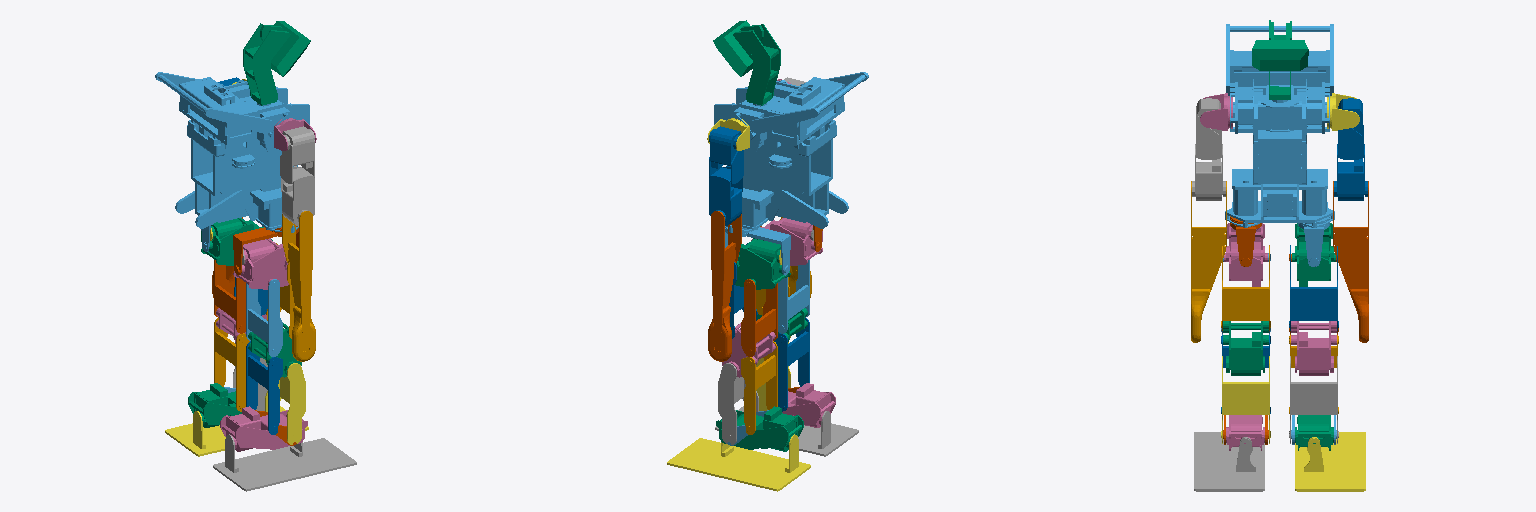
--- Facts derived from the render (not from the file) ---
Views: 3 orthographic renders of the robot side by side, from view 1: azimuth 30°, elevation 25°; view 2: azimuth 150°, elevation 25°; view 3: azimuth 270°, elevation 25°.
Robot: gankenkun — 35 links, 34 joints (29 revolute, 5 fixed); root link base_link; default pose: every joint at zero.
Visible links, largest first — view 1: body_link, right_ankle_roll_link, head_yaw_link, right_lower_arm_link, right_upper_arm_link, right_ankle_pitch_link, right_waist_roll_link, right_shin_pitch_mimic_link, right_waist_pitch_mimic_link, left_shin_pitch_mimic_link, right_shin_pitch_link, left_ankle_roll_link (+6 smaller); view 2: body_link, left_ankle_roll_link, head_yaw_link, left_lower_arm_link, left_upper_arm_link, left_ankle_pitch_link, left_waist_roll_link, left_shin_pitch_mimic_link, left_waist_pitch_mimic_link, right_shin_pitch_mimic_link, left_shin_pitch_link, right_ankle_roll_link (+6 smaller); view 3: body_link, right_ankle_roll_link, left_ankle_roll_link, left_lower_arm_link, right_lower_arm_link, right_upper_arm_link, left_upper_arm_link, head_yaw_link, left_knee_pitch_link, right_knee_pitch_link, left_waist_pitch_link, right_waist_pitch_link (+10 smaller).
Boxes of the visible links, x1,y1,x2,y2 form: body_link: [155, 72, 309, 232]; right_ankle_roll_link: [213, 434, 356, 491]; head_yaw_link: [243, 21, 310, 105]; right_lower_arm_link: [282, 211, 315, 361]; right_upper_arm_link: [280, 126, 314, 225]; right_ankle_pitch_link: [220, 406, 307, 451]; right_waist_roll_link: [233, 238, 288, 289]; right_shin_pitch_mimic_link: [246, 341, 282, 434]; right_waist_pitch_mimic_link: [246, 279, 282, 356]; left_shin_pitch_mimic_link: [214, 318, 249, 411]; right_shin_pitch_link: [265, 360, 305, 444]; left_ankle_roll_link: [165, 406, 308, 456]; body_link: [714, 72, 868, 232]; left_ankle_roll_link: [667, 434, 810, 491]; head_yaw_link: [713, 20, 780, 105]; left_lower_arm_link: [708, 211, 741, 361]; left_upper_arm_link: [709, 126, 743, 225]; left_ankle_pitch_link: [716, 406, 803, 451]; left_waist_roll_link: [735, 238, 790, 289]; left_shin_pitch_mimic_link: [741, 341, 777, 434]; left_waist_pitch_mimic_link: [741, 279, 777, 356]; right_shin_pitch_mimic_link: [774, 318, 809, 411]; left_shin_pitch_link: [718, 360, 758, 444]; right_ankle_roll_link: [715, 406, 858, 456]; body_link: [1225, 24, 1334, 227]; right_ankle_roll_link: [1194, 432, 1264, 491]; left_ankle_roll_link: [1295, 432, 1365, 491]; left_lower_arm_link: [1333, 181, 1368, 342]; right_lower_arm_link: [1191, 181, 1226, 342]; right_upper_arm_link: [1192, 98, 1225, 200]; left_upper_arm_link: [1334, 98, 1367, 200]; head_yaw_link: [1252, 20, 1308, 99]; left_knee_pitch_link: [1291, 321, 1336, 375]; right_knee_pitch_link: [1223, 321, 1268, 375]; left_waist_pitch_link: [1289, 245, 1338, 330]; right_waist_pitch_link: [1221, 245, 1270, 330].
Bounding box of the posed robot: 0.215 × 0.2307 × 0.6326 m (x, y, z).
30 mesh visuals loaded from 20 distinct referenced files (20 binary STL).

The robot description file, URDF, robot "gankenkun":
<?xml version="1.0" ?>
<!-- =================================================================================== -->
<!-- |    This document was autogenerated by xacro from gankenkun_v3.xacro             | -->
<!-- |    EDITING THIS FILE BY HAND IS NOT RECOMMENDED                                 | -->
<!-- =================================================================================== -->
<robot name="gankenkun" xmlns:xacro="http://www.ros.org/wiki/xacro">
  <material name="black">
    <color rgba="0.0 0.0 0.0 1.0"/>
  </material>
  <material name="blue">
    <color rgba="0.0 0.0 0.8 1.0"/>
  </material>
  <material name="green">
    <color rgba="0.0 0.8 0.0 1.0"/>
  </material>
  <material name="grey">
    <color rgba="0.5 0.5 0.5 1.0"/>
  </material>
  <material name="orange">
    <color rgba="1.0 0.423529411765 0.0392156862745 1.0"/>
  </material>
  <material name="brown">
    <color rgba="1.0 0.811764705882 0.764705882353 1.0"/>
  </material>
  <material name="red">
    <color rgba="0.8 0.0 0.0 1.0"/>
  </material>
  <material name="white">
    <color rgba="1.0 1.0 1.0 1.0"/>
  </material>
  <!-- import empty link -->
  <link name="base_link"/>
  <!-- uncomment this part to fixed the body in space (ignore gravity) -->
  <!--
    <link name="world"/>
    <joint name="world2base" type="fixed">
        <origin xyz="0 0 0" rpy="0 0 0" />
        <parent link="world"/>
        <child link="base_link"/>
    </joint>
    -->
  <!-- base joints -->
  <joint name="base_joint" type="fixed">
    <parent link="base_link"/>
    <child link="body_link"/>
    <origin rpy="0 0 0" xyz="0 0 0.4285"/>
  </joint>
  <!-- base body -->
  <link name="body_link">
    <inertial>
      <mass value="1.289633"/>
      <origin xyz="-0.029448 0 0.031411"/>
      <inertia ixx="6.835657" ixy="0.00077" ixz="-0.0158" iyy="6.654993" iyz="-1.37921" izz="6.88664"/>
    </inertial>
    <visual>
      <origin rpy="-1.57079632679 0 1.57079632679" xyz="0 0 0"/>
      <geometry>
        <mesh filename="meshes/STL/body.stl"/>
      </geometry>
    </visual>
    <collision>
      <origin rpy="-1.57079632679 0 1.57079632679" xyz="0 0 0"/>
      <geometry>
        <mesh filename="meshes/STL/body.stl"/>
      </geometry>
    </collision>
  </link>
  <!-- head joints -->
  <joint name="head_yaw_joint" type="revolute">
    <parent link="body_link"/>
    <child link="head_yaw_link"/>
    <origin rpy="0 0 0" xyz="0 0 0.09475"/>
    <limit effort="1000" lower="-2.35619449019" upper="2.35619449019" velocity="1.0"/>
    <axis xyz="0 0 1"/>
  </joint>
  <!-- head link -->
  <link name="head_yaw_link">
    <inertial>
      <mass value="0.10351"/>
      <origin xyz="0.017325 0 0.065059"/>
      <inertia ixx="0.0647399" ixy="0.0" ixz="0.0" iyy="0.098874" iyz="0.0" izz="0.088696"/>
    </inertial>
    <visual>
      <origin rpy="-1.57079632679 1.57079632679 0" xyz="0 0 0"/>
      <geometry>
        <mesh filename="meshes/STL/head.stl"/>
      </geometry>
    </visual>
    <collision>
      <origin rpy="-1.57079632679 1.57079632679 0" xyz="0 0 0"/>
      <geometry>
        <mesh filename="meshes/STL/head.stl"/>
      </geometry>
    </collision>
  </link>
  <!-- arm joints -->
  <joint name="left_shoulder_pitch_joint" type="revolute">
    <parent link="body_link"/>
    <child link="left_shoulder_link"/>
    <origin rpy="-1.57079632679 0 0" xyz="0.0 0.06 0.072"/>
    <limit effort="1000" lower="-2.35619449019" upper="2.35619449019" velocity="1.0"/>
    <axis xyz="0 0 1"/>
  </joint>
  <joint name="left_shoulder_roll_joint" type="revolute">
    <parent link="left_shoulder_link"/>
    <child link="left_upper_arm_link"/>
    <origin rpy="0 1.57079632679 0" xyz="0 0 0.0315"/>
    <limit effort="1000" lower="0" upper="3.14159265359" velocity="1.0"/>
    <axis xyz="0 0 1"/>
  </joint>
  <joint name="left_elbow_pitch_joint" type="revolute">
    <parent link="left_upper_arm_link"/>
    <child link="left_lower_arm_link"/>
    <origin rpy="0 -1.57079632679 0" xyz="0 0.109 0"/>
    <limit effort="1000" lower="-2.35619449019" upper="2.35619449019" velocity="1.0"/>
    <axis xyz="0 0 1"/>
  </joint>
  <!-- arm link -->
  <link name="left_shoulder_link">
    <inertial>
      <mass value="0.09038"/>
      <origin xyz="0 0 0.0075"/>
      <inertia ixx="0.018183" ixy="0.0" ixz="0.0" iyy="0.027159" iyz="0.0" izz="0.014844"/>
    </inertial>
    <visual>
      <origin rpy="0 0 1.57079632679" xyz="0 0 0"/>
      <geometry>
        <mesh filename="meshes/STL/shoulder.stl"/>
      </geometry>
    </visual>
    <collision>
      <!-- fix shoulder collision.stl -->
      <origin rpy="0 0 1.57079632679" xyz="0 0 0"/>
      <geometry>
        <mesh filename="meshes/STL/shoulder.stl"/>
      </geometry>
    </collision>
  </link>
  <link name="left_upper_arm_link">
    <inertial>
      <mass value="0.185658"/>
      <origin xyz="0 0.0545 0"/>
      <inertia ixx="0.380361" ixy="0.0" ixz="0.0" iyy="0.380345" iyz="-0.001759" izz="0.037424"/>
    </inertial>
    <visual>
      <origin rpy="0 1.57079632679 0" xyz="0 0 0"/>
      <geometry>
        <mesh filename="meshes/STL/arm.stl"/>
      </geometry>
    </visual>
    <collision>
      <origin rpy="0 1.57079632679 0" xyz="0 0 0"/>
      <geometry>
        <mesh filename="meshes/STL/arm.stl"/>
      </geometry>
    </collision>
  </link>
  <link name="left_lower_arm_link">
    <inertial>
      <mass value="0.059757"/>
      <origin xyz="0 0.132001 0"/>
      <inertia ixx="0.014579" ixy="-0.022117" ixz="0.0" iyy="0.228745" iyz="-0.001759" izz="0.237824"/>
    </inertial>
    <visual>
      <origin rpy="0 0 1.57079632679" xyz="0 0 0"/>
      <geometry>
        <mesh filename="meshes/STL/hand.stl"/>
      </geometry>
    </visual>
    <collision>
      <origin rpy="0 0 1.57079632679" xyz="0 0 0"/>
      <geometry>
        <mesh filename="meshes/STL/hand.stl"/>
      </geometry>
    </collision>
  </link>
  <!-- arm joints -->
  <joint name="right_shoulder_pitch_joint" type="revolute">
    <parent link="body_link"/>
    <child link="right_shoulder_link"/>
    <origin rpy="-1.57079632679 0 0" xyz="0.0 -0.06 0.072"/>
    <limit effort="1000" lower="-2.35619449019" upper="2.35619449019" velocity="1.0"/>
    <axis xyz="0 0 1"/>
  </joint>
  <joint name="right_shoulder_roll_joint" type="revolute">
    <parent link="right_shoulder_link"/>
    <child link="right_upper_arm_link"/>
    <origin rpy="0 1.57079632679 0" xyz="0 0 -0.0315"/>
    <limit effort="1000" lower="-3.14159265359" upper="0" velocity="1.0"/>
    <axis xyz="0 0 1"/>
  </joint>
  <joint name="right_elbow_pitch_joint" type="revolute">
    <parent link="right_upper_arm_link"/>
    <child link="right_lower_arm_link"/>
    <origin rpy="0 -1.57079632679 0" xyz="0 0.109 0"/>
    <limit effort="1000" lower="-2.35619449019" upper="2.35619449019" velocity="1.0"/>
    <axis xyz="0 0 1"/>
  </joint>
  <!-- arm link -->
  <link name="right_shoulder_link">
    <inertial>
      <mass value="0.09038"/>
      <origin xyz="0 0 -0.0075"/>
      <inertia ixx="0.018183" ixy="0.0" ixz="0.0" iyy="0.027159" iyz="0.0" izz="0.014844"/>
    </inertial>
    <visual>
      <origin rpy="0 3.14159265359 1.57079632679" xyz="0 0 0"/>
      <geometry>
        <mesh filename="meshes/STL/shoulder.stl"/>
      </geometry>
    </visual>
    <collision>
      <!-- fix shoulder collision.stl -->
      <origin rpy="0 3.14159265359 1.57079632679" xyz="0 0 0"/>
      <geometry>
        <mesh filename="meshes/STL/shoulder.stl"/>
      </geometry>
    </collision>
  </link>
  <link name="right_upper_arm_link">
    <inertial>
      <mass value="0.185658"/>
      <origin xyz="0 0.0545 0"/>
      <inertia ixx="0.380361" ixy="0.0" ixz="0.0" iyy="0.380345" iyz="-0.001759" izz="0.037424"/>
    </inertial>
    <visual>
      <origin rpy="0 1.57079632679 0" xyz="0 0 0"/>
      <geometry>
        <mesh filename="meshes/STL/arm.stl"/>
      </geometry>
    </visual>
    <collision>
      <origin rpy="0 1.57079632679 0" xyz="0 0 0"/>
      <geometry>
        <mesh filename="meshes/STL/arm.stl"/>
      </geometry>
    </collision>
  </link>
  <link name="right_lower_arm_link">
    <inertial>
      <mass value="0.059757"/>
      <origin xyz="0 0.132001 0"/>
      <inertia ixx="0.014579" ixy="-0.022117" ixz="0.0" iyy="0.228745" iyz="-0.001759" izz="0.237824"/>
    </inertial>
    <visual>
      <origin rpy="3.14159265359 0 1.57079632679" xyz="0 0 0"/>
      <geometry>
        <mesh filename="meshes/STL/hand.stl"/>
      </geometry>
    </visual>
    <collision>
      <origin rpy="3.14159265359 0 1.57079632679" xyz="0 0 0"/>
      <geometry>
        <mesh filename="meshes/STL/hand.stl"/>
      </geometry>
    </collision>
  </link>
  <!-- leg joints -->
  <joint name="left_waist_yaw_joint" type="revolute">
    <parent link="body_link"/>
    <child link="left_waist_yaw_link"/>
    <origin rpy="0 0 0" xyz="0.005 0.044 -0.0725"/>
    <limit effort="1000" lower="-2.35619449019" upper="2.35619449019" velocity="1.0"/>
    <axis xyz="0 0 1"/>
  </joint>
  <joint name="left_waist_roll_joint" type="revolute">
    <parent link="left_waist_yaw_link"/>
    <child link="left_waist_roll_link"/>
    <origin rpy="0 1.57079632679 0" xyz="0.024975 0 -0.055"/>
    <limit effort="1000" lower="-0.785398163397" upper="0.785398163397" velocity="1.0"/>
    <axis xyz="0 0 1"/>
  </joint>
  <joint name="left_waist_roll_mimic_joint" type="revolute">
    <parent link="left_waist_roll_link"/>
    <child link="left_slider_crank_link"/>
    <origin rpy="0 0 0" xyz="-0.018 0 -0.091475"/>
    <mimic joint="left_waist_roll_joint" multiplier="-2" offset="0"/>
    <limit effort="1000" lower="-1.57079632679" upper="1.57079632679" velocity="2.0"/>
    <axis xyz="0 0 1"/>
  </joint>
  <joint name="left_waist_pitch_joint" type="revolute">
    <parent link="left_waist_roll_link"/>
    <child link="left_waist_pitch_link"/>
    <origin rpy="-1.57079632679 0 0" xyz="0 0 -0.025"/>
    <limit effort="1000" lower="-1.57079632679" upper="0.523598775598" velocity="1.0"/>
    <axis xyz="0 0 1"/>
  </joint>
  <joint name="left_waist_pitch_mimic_joint" type="revolute">
    <parent link="left_waist_roll_link"/>
    <child link="left_waist_pitch_mimic_link"/>
    <origin rpy="-1.57079632679 0 0" xyz="0.02 0 -0.057"/>
    <mimic joint="left_waist_pitch_joint" multiplier="1" offset="0"/>
    <limit effort="1000" lower="-1.57079632679" upper="0.523598775598" velocity="1.0"/>
    <axis xyz="0 0 1"/>
  </joint>
  <joint name="left_knee_pitch_mimic_joint" type="revolute">
    <parent link="left_waist_pitch_link"/>
    <child link="left_knee_pitch_link"/>
    <origin rpy="0 0 0" xyz="0.1 0 0"/>
    <mimic joint="left_waist_pitch_joint" multiplier="-1" offset="0"/>
    <limit effort="1000" lower="-0.523598775598" upper="1.57079632679" velocity="1.0"/>
    <axis xyz="0 0 1"/>
  </joint>
  <joint name="left_knee_pitch_joint" type="revolute">
    <parent link="left_knee_pitch_link"/>
    <child link="left_shin_pitch_link"/>
    <origin rpy="0 0 0" xyz="0.057 0 0"/>
    <limit effort="1000" lower="-0.523598775598" upper="1.57079632679" velocity="1.0"/>
    <axis xyz="0 0 1"/>
  </joint>
  <joint name="left_shin_pitch_mimic_joint" type="revolute">
    <parent link="left_knee_pitch_link"/>
    <child link="left_shin_pitch_mimic_link"/>
    <origin rpy="0 0 0" xyz="0.037 0.032 0"/>
    <mimic joint="left_knee_pitch_joint" multiplier="1" offset="0"/>
    <limit effort="1000" lower="-0.523598775598" upper="1.57079632679" velocity="1.0"/>
    <axis xyz="0 0 1"/>
  </joint>
  <joint name="left_ankle_pitch_mimic_joint" type="revolute">
    <parent link="left_shin_pitch_link"/>
    <child link="left_independent_pitch_link"/>
    <origin rpy="0 0 0" xyz="0.1 0 0"/>
    <mimic joint="left_knee_pitch_joint" multiplier="-1" offset="0"/>
    <limit effort="1000" lower="-1.57079632679" upper="1.57079632679" velocity="1.0"/>
    <axis xyz="0 0 1"/>
  </joint>
  <joint name="left_ankle_pitch_joint" type="revolute">
    <parent link="left_independent_pitch_link"/>
    <child link="left_ankle_pitch_link"/>
    <origin rpy="0 0 0" xyz="0.0001 0 0"/>
    <limit effort="1000" lower="-2.35619449019" upper="2.35619449019" velocity="1.0"/>
    <axis xyz="0 0 1"/>
  </joint>
  <joint name="left_ankle_roll_joint" type="revolute">
    <parent link="left_ankle_pitch_link"/>
    <child link="left_ankle_roll_link"/>
    <origin rpy="1.57079632679 0 0" xyz="0 0.0325 0"/>
    <limit effort="1000" lower="-1.57079632679" upper="1.57079632679" velocity="1.0"/>
    <axis xyz="0 0 1"/>
  </joint>
  <joint name="left_foot_joint" type="fixed">
    <parent link="left_ankle_roll_link"/>
    <child link="left_foot_link"/>
    <origin rpy="0 -1.57079632679 0" xyz="0.044 0 0"/>
  </joint>
  <!-- leg links -->
  <link name="left_waist_yaw_link">
    <inertial>
      <mass value="0.105945"/>
      <origin xyz="-0.00658 0 -0.010416"/>
      <inertia ixx="0.033421" ixy="0.0" ixz="0.0" iyy="0.029567" iyz="0.0095" izz="0.078558"/>
    </inertial>
    <visual>
      <origin rpy="-1.57079632679 0 1.57079632679" xyz="0 0 0"/>
      <geometry>
        <mesh filename="meshes/STL/waist_yaw.stl"/>
      </geometry>
    </visual>
    <collision>
      <origin rpy="-1.57079632679 0 1.57079632679" xyz="0 0 0"/>
      <geometry>
        <mesh filename="meshes/STL/waist_yaw.stl"/>
      </geometry>
    </collision>
  </link>
  <link name="left_waist_roll_link">
    <inertial>
      <mass value="0.227844"/>
      <origin xyz="0.002331 0 -0.04763"/>
      <inertia ixx="1.0" ixy="0.0" ixz="0.0" iyy="1.0" iyz="0.0" izz="1.0"/>
    </inertial>
    <visual>
      <origin rpy="-1.57079632679 -1.57079632679 0" xyz="0 0 0"/>
      <geometry>
        <mesh filename="meshes/STL/waist_roll_left.stl"/>
      </geometry>
    </visual>
    <collision>
      <origin rpy="-1.57079632679 -1.57079632679 0" xyz="0 0 0"/>
      <geometry>
        <mesh filename="meshes/STL/waist_roll_left.stl"/>
      </geometry>
    </collision>
  </link>
  <link name="left_slider_crank_link">
    <inertial>
      <mass value="0.002638"/>
      <origin xyz="-0.010842 0 -0.001"/>
      <inertia ixx="0.000245" ixy="0.0" ixz="0.0" iyy="0.000062" iyz="-0.000038" izz="0.000278"/>
    </inertial>
    <visual>
      <origin rpy="1.57079632679 0 -1.57079632679" xyz="0 0 0"/>
      <geometry>
        <mesh filename="meshes/STL/slider_crank.stl"/>
      </geometry>
    </visual>
    <collision>
      <origin rpy="1.57079632679 0 -1.57079632679" xyz="0 0 0"/>
      <geometry>
        <mesh filename="meshes/STL/slider_crank.stl"/>
      </geometry>
    </collision>
  </link>
  <link name="left_waist_pitch_link">
    <inertial>
      <mass value="0.030589"/>
      <origin xyz="0.057714 -0.007362 0"/>
      <inertia ixx="0.044858" ixy="0.0" ixz="0.001389" iyy="0.024652" iyz="0.000478" izz="0.023553"/>
    </inertial>
    <visual>
      <origin rpy="0 0 -1.57079632679" xyz="0 0 0"/>
      <geometry>
        <mesh filename="meshes/STL/waist_pitch.stl"/>
      </geometry>
    </visual>
    <collision>
      <origin rpy="0 0 -1.57079632679" xyz="0 0 0"/>
      <geometry>
        <mesh filename="meshes/STL/waist_pitch.stl"/>
      </geometry>
    </collision>
  </link>
  <link name="left_waist_pitch_mimic_link">
    <inertial>
      <mass value="0.026735"/>
      <origin xyz="0.059775 0.001384 0"/>
      <inertia ixx="0.042656" ixy="0.0" ixz="-0.000467" iyy="0.024407" iyz="0.000251" izz="0.019675"/>
    </inertial>
    <visual>
      <origin rpy="0 0 1.57079632679" xyz="0 0 0"/>
      <geometry>
        <mesh filename="meshes/STL/waist_pitch_mimic.stl"/>
      </geometry>
    </visual>
    <collision>
      <origin rpy="0 0 1.57079632679" xyz="0 0 0"/>
      <geometry>
        <mesh filename="meshes/STL/waist_pitch_mimic.stl"/>
      </geometry>
    </collision>
  </link>
  <link name="left_knee_pitch_link">
    <inertial>
      <mass value="0.161201"/>
      <origin xyz="0.037989 0.005 0"/>
      <inertia ixx="0.07167" ixy="-0.001173" ixz="0.009292" iyy="0.088083" iyz="0.0" izz="0.092627"/>
    </inertial>
    <visual>
      <origin rpy="0 3.14159265359 0" xyz="0 0 0"/>
      <geometry>
        <mesh filename="meshes/STL/knee_pitch_left.stl"/>
      </geometry>
    </visual>
    <collision>
      <origin rpy="0 3.14159265359 0" xyz="0 0 0"/>
      <geometry>
        <mesh filename="meshes/STL/knee_pitch_left.stl"/>
      </geometry>
    </collision>
  </link>
  <link name="left_shin_pitch_link">
    <inertial>
      <mass value="0.091894"/>
      <origin xyz="0.048641 -0.006895 0"/>
      <inertia ixx="0.047546" ixy="0.0" ixz="-0.001536" iyy="0.026419" iyz="0.0" izz="0.025032"/>
    </inertial>
    <visual>
      <origin rpy="0 0 -1.57079632679" xyz="0 0 0"/>
      <geometry>
        <mesh filename="meshes/STL/shin_pitch.stl"/>
      </geometry>
    </visual>
    <collision>
      <origin rpy="0 0 -1.57079632679" xyz="0 0 0"/>
      <geometry>
        <mesh filename="meshes/STL/shin_pitch.stl"/>
      </geometry>
    </collision>
  </link>
  <link name="left_shin_pitch_mimic_link">
    <inertial>
      <mass value="0.025866"/>
      <origin xyz="0.039698 -0.001743 0"/>
      <inertia ixx="0.041524" ixy="0.0" ixz="0.0" iyy="0.023965" iyz="0.0" izz="0.018773"/>
    </inertial>
    <visual>
      <origin rpy="3.14159265359 0 1.57079632679" xyz="0 0 0"/>
      <geometry>
        <mesh filename="meshes/STL/shin_pitch_mimic.stl"/>
      </geometry>
    </visual>
    <collision>
      <origin rpy="3.14159265359 0 1.57079632679" xyz="0 0 0"/>
      <geometry>
        <mesh filename="meshes/STL/shin_pitch_mimic.stl"/>
      </geometry>
    </collision>
  </link>
  <link name="left_independent_pitch_link">
    <inertial>
      <mass value="0.01245"/>
      <origin xyz="-0.00763 0 0"/>
      <inertia ixx="0.011013" ixy="0.0" ixz="0.0" iyy="0.010073" iyz="0.0" izz="0.003162"/>
    </inertial>
    <visual>
      <origin rpy="1.57079632679 0 3.14159265359" xyz="0 0 0"/>
      <geometry>
        <mesh filename="meshes/STL/independent_pitch.stl"/>
      </geometry>
    </visual>
    <collision>
      <origin rpy="1.57079632679 0 3.14159265359" xyz="0 0 0"/>
      <geometry>
        <mesh filename="meshes/STL/independent_pitch.stl"/>
      </geometry>
    </collision>
  </link>
  <link name="left_ankle_pitch_link">
    <inertial>
      <mass value="0.229672"/>
      <origin xyz="-0.005371 0.031878 0"/>
      <inertia ixx="0.065718" ixy="0.0" ixz="0.030798" iyy="0.258093" iyz="0.0" izz="0.258972"/>
    </inertial>
    <visual>
      <origin rpy="0 0 -1.57079632679" xyz="0 0 0"/>
      <geometry>
        <mesh filename="meshes/STL/ankle_pitch_left.stl"/>
      </geometry>
    </visual>
    <collision>
      <origin rpy="0 0 -1.57079632679" xyz="0 0 0"/>
      <geometry>
        <mesh filename="meshes/STL/ankle_pitch_left.stl"/>
      </geometry>
    </collision>
  </link>
  <link name="left_ankle_roll_link">
    <inertial>
      <mass value="0.073825"/>
      <origin xyz="0.038060 0.017131 0.023457"/>
      <inertia ixx="0.067151" ixy="0.006696" ixz="0.005561" iyy="0.251962" iyz="-0.00548" izz="0.300472"/>
    </inertial>
    <visual>
      <origin rpy="-1.57079632679 -1.57079632679 0" xyz="0 0 0"/>
      <geometry>
        <mesh filename="meshes/STL/ankle_roll_left.stl"/>
      </geometry>
    </visual>
    <collision>
      <origin rpy="-1.57079632679 -1.57079632679 0" xyz="0 0 0"/>
      <geometry>
        <mesh filename="meshes/STL/ankle_roll_left.stl"/>
      </geometry>
    </collision>
  </link>
  <link name="left_foot_link"/>
  <!-- leg joints -->
  <joint name="right_waist_yaw_joint" type="revolute">
    <parent link="body_link"/>
    <child link="right_waist_yaw_link"/>
    <origin rpy="0 0 0" xyz="0.005 -0.044 -0.0725"/>
    <limit effort="1000" lower="-2.35619449019" upper="2.35619449019" velocity="1.0"/>
    <axis xyz="0 0 1"/>
  </joint>
  <joint name="right_waist_roll_joint" type="revolute">
    <parent link="right_waist_yaw_link"/>
    <child link="right_waist_roll_link"/>
    <origin rpy="0 1.57079632679 0" xyz="0.024975 0 -0.055"/>
    <limit effort="1000" lower="-0.785398163397" upper="0.785398163397" velocity="1.0"/>
    <axis xyz="0 0 1"/>
  </joint>
  <joint name="right_waist_roll_mimic_joint" type="revolute">
    <parent link="right_waist_roll_link"/>
    <child link="right_slider_crank_link"/>
    <origin rpy="0 0 0" xyz="-0.018 0 -0.091475"/>
    <mimic joint="right_waist_roll_joint" multiplier="-2" offset="0"/>
    <limit effort="1000" lower="-1.57079632679" upper="1.57079632679" velocity="2.0"/>
    <axis xyz="0 0 1"/>
  </joint>
  <joint name="right_waist_pitch_joint" type="revolute">
    <parent link="right_waist_roll_link"/>
    <child link="right_waist_pitch_link"/>
    <origin rpy="-1.57079632679 0 0" xyz="0 0 -0.025"/>
    <limit effort="1000" lower="-1.57079632679" upper="0.523598775598" velocity="1.0"/>
    <axis xyz="0 0 1"/>
  </joint>
  <joint name="right_waist_pitch_mimic_joint" type="revolute">
    <parent link="right_waist_roll_link"/>
    <child link="right_waist_pitch_mimic_link"/>
    <origin rpy="-1.57079632679 0 0" xyz="0.02 0 -0.057"/>
    <mimic joint="right_waist_pitch_joint" multiplier="1" offset="0"/>
    <limit effort="1000" lower="-1.57079632679" upper="0.523598775598" velocity="1.0"/>
    <axis xyz="0 0 1"/>
  </joint>
  <joint name="right_knee_pitch_mimic_joint" type="revolute">
    <parent link="right_waist_pitch_link"/>
    <child link="right_knee_pitch_link"/>
    <origin rpy="0 0 0" xyz="0.1 0 0"/>
    <mimic joint="right_waist_pitch_joint" multiplier="-1" offset="0"/>
    <limit effort="1000" lower="-0.523598775598" upper="1.57079632679" velocity="1.0"/>
    <axis xyz="0 0 1"/>
  </joint>
  <joint name="right_knee_pitch_joint" type="revolute">
    <parent link="right_knee_pitch_link"/>
    <child link="right_shin_pitch_link"/>
    <origin rpy="0 0 0" xyz="0.057 0 0"/>
    <limit effort="1000" lower="-0.523598775598" upper="1.57079632679" velocity="1.0"/>
    <axis xyz="0 0 1"/>
  </joint>
  <joint name="right_shin_pitch_mimic_joint" type="revolute">
    <parent link="right_knee_pitch_link"/>
    <child link="right_shin_pitch_mimic_link"/>
    <origin rpy="0 0 0" xyz="0.037 0.032 0"/>
    <mimic joint="right_knee_pitch_joint" multiplier="1" offset="0"/>
    <limit effort="1000" lower="-0.523598775598" upper="1.57079632679" velocity="1.0"/>
    <axis xyz="0 0 1"/>
  </joint>
  <joint name="right_ankle_pitch_mimic_joint" type="revolute">
    <parent link="right_shin_pitch_link"/>
    <child link="right_independent_pitch_link"/>
    <origin rpy="0 0 0" xyz="0.1 0 0"/>
    <mimic joint="right_knee_pitch_joint" multiplier="-1" offset="0"/>
    <limit effort="1000" lower="-1.57079632679" upper="1.57079632679" velocity="1.0"/>
    <axis xyz="0 0 1"/>
  </joint>
  <joint name="right_ankle_pitch_joint" type="revolute">
    <parent link="right_independent_pitch_link"/>
    <child link="right_ankle_pitch_link"/>
    <origin rpy="0 0 0" xyz="0.0001 0 0"/>
    <limit effort="1000" lower="-2.35619449019" upper="2.35619449019" velocity="1.0"/>
    <axis xyz="0 0 1"/>
  </joint>
  <joint name="right_ankle_roll_joint" type="revolute">
    <parent link="right_ankle_pitch_link"/>
    <child link="right_ankle_roll_link"/>
    <origin rpy="1.57079632679 0 0" xyz="0 0.0325 0"/>
    <limit effort="1000" lower="-1.57079632679" upper="1.57079632679" velocity="1.0"/>
    <axis xyz="0 0 1"/>
  </joint>
  <joint name="right_foot_joint" type="fixed">
    <parent link="right_ankle_roll_link"/>
    <child link="right_foot_link"/>
    <origin rpy="0 -1.57079632679 0" xyz="0.044 0 0"/>
  </joint>
  <!-- leg links -->
  <link name="right_waist_yaw_link">
    <inertial>
      <mass value="0.105945"/>
      <origin xyz="-0.00658 0 -0.010416"/>
      <inertia ixx="0.033421" ixy="0.0" ixz="0.0" iyy="0.029567" iyz="0.0095" izz="0.078558"/>
    </inertial>
    <visual>
      <origin rpy="-1.57079632679 0 1.57079632679" xyz="0 0 0"/>
      <geometry>
        <mesh filename="meshes/STL/waist_yaw.stl"/>
      </geometry>
    </visual>
    <collision>
      <origin rpy="-1.57079632679 0 1.57079632679" xyz="0 0 0"/>
      <geometry>
        <mesh filename="meshes/STL/waist_yaw.stl"/>
      </geometry>
    </collision>
  </link>
  <link name="right_waist_roll_link">
    <inertial>
      <mass value="0.227844"/>
      <origin xyz="0.002331 0 -0.04763"/>
      <inertia ixx="1.0" ixy="0.0" ixz="0.0" iyy="1.0" iyz="0.0" izz="1.0"/>
    </inertial>
    <visual>
      <origin rpy="-1.57079632679 -1.57079632679 0" xyz="0 0 0"/>
      <geometry>
        <mesh filename="meshes/STL/waist_roll_right.stl"/>
      </geometry>
    </visual>
    <collision>
      <origin rpy="-1.57079632679 -1.57079632679 0" xyz="0 0 0"/>
      <geometry>
        <mesh filename="meshes/STL/waist_roll_right.stl"/>
      </geometry>
    </collision>
  </link>
  <link name="right_slider_crank_link">
    <inertial>
      <mass value="0.002638"/>
      <origin xyz="-0.010842 0 -0.001"/>
      <inertia ixx="0.000245" ixy="0.0" ixz="0.0" iyy="0.000062" iyz="-0.000038" izz="0.000278"/>
    </inertial>
    <visual>
      <origin rpy="1.57079632679 0 -1.57079632679" xyz="0 0 0"/>
      <geometry>
        <mesh filename="meshes/STL/slider_crank.stl"/>
      </geometry>
    </visual>
    <collision>
      <origin rpy="1.57079632679 0 -1.57079632679" xyz="0 0 0"/>
      <geometry>
        <mesh filename="meshes/STL/slider_crank.stl"/>
      </geometry>
    </collision>
  </link>
  <link name="right_waist_pitch_link">
    <inertial>
      <mass value="0.030589"/>
      <origin xyz="0.057714 -0.007362 0"/>
      <inertia ixx="0.044858" ixy="0.0" ixz="0.001389" iyy="0.024652" iyz="0.000478" izz="0.023553"/>
    </inertial>
    <visual>
      <origin rpy="0 0 -1.57079632679" xyz="0 0 0"/>
      <geometry>
        <mesh filename="meshes/STL/waist_pitch.stl"/>
      </geometry>
    </visual>
    <collision>
      <origin rpy="0 0 -1.57079632679" xyz="0 0 0"/>
      <geometry>
        <mesh filename="meshes/STL/waist_pitch.stl"/>
      </geometry>
    </collision>
  </link>
  <link name="right_waist_pitch_mimic_link">
    <inertial>
      <mass value="0.026735"/>
      <origin xyz="0.059775 0.001384 0"/>
      <inertia ixx="0.042656" ixy="0.0" ixz="-0.000467" iyy="0.024407" iyz="0.000251" izz="0.019675"/>
    </inertial>
    <visual>
      <origin rpy="0 0 1.57079632679" xyz="0 0 0"/>
      <geometry>
        <mesh filename="meshes/STL/waist_pitch_mimic.stl"/>
      </geometry>
    </visual>
    <collision>
      <origin rpy="0 0 1.57079632679" xyz="0 0 0"/>
      <geometry>
        <mesh filename="meshes/STL/waist_pitch_mimic.stl"/>
      </geometry>
    </collision>
  </link>
  <link name="right_knee_pitch_link">
    <inertial>
      <mass value="0.161201"/>
      <origin xyz="0.037989 0.005 0"/>
      <inertia ixx="0.07167" ixy="-0.001173" ixz="0.009292" iyy="0.088083" iyz="0.0" izz="0.092627"/>
    </inertial>
    <visual>
      <origin rpy="3.14159265359 3.14159265359 0" xyz="0 0 0"/>
      <geometry>
        <mesh filename="meshes/STL/knee_pitch_right.stl"/>
      </geometry>
    </visual>
    <collision>
      <origin rpy="3.14159265359 3.14159265359 0" xyz="0 0 0"/>
      <geometry>
        <mesh filename="meshes/STL/knee_pitch_right.stl"/>
      </geometry>
    </collision>
  </link>
  <link name="right_shin_pitch_link">
    <inertial>
      <mass value="0.091894"/>
      <origin xyz="0.048641 -0.006895 0"/>
      <inertia ixx="0.047546" ixy="0.0" ixz="-0.001536" iyy="0.026419" iyz="0.0" izz="0.025032"/>
    </inertial>
    <visual>
      <origin rpy="0 0 -1.57079632679" xyz="0 0 0"/>
      <geometry>
        <mesh filename="meshes/STL/shin_pitch.stl"/>
      </geometry>
    </visual>
    <collision>
      <origin rpy="0 0 -1.57079632679" xyz="0 0 0"/>
      <geometry>
        <mesh filename="meshes/STL/shin_pitch.stl"/>
      </geometry>
    </collision>
  </link>
  <link name="right_shin_pitch_mimic_link">
    <inertial>
      <mass value="0.025866"/>
      <origin xyz="0.039698 -0.001743 0"/>
      <inertia ixx="0.041524" ixy="0.0" ixz="0.0" iyy="0.023965" iyz="0.0" izz="0.018773"/>
    </inertial>
    <visual>
      <origin rpy="3.14159265359 0 1.57079632679" xyz="0 0 0"/>
      <geometry>
        <mesh filename="meshes/STL/shin_pitch_mimic.stl"/>
      </geometry>
    </visual>
    <collision>
      <origin rpy="3.14159265359 0 1.57079632679" xyz="0 0 0"/>
      <geometry>
        <mesh filename="meshes/STL/shin_pitch_mimic.stl"/>
      </geometry>
    </collision>
  </link>
  <link name="right_independent_pitch_link">
    <inertial>
      <mass value="0.01245"/>
      <origin xyz="-0.00763 0 0"/>
      <inertia ixx="0.011013" ixy="0.0" ixz="0.0" iyy="0.010073" iyz="0.0" izz="0.003162"/>
    </inertial>
    <visual>
      <origin rpy="1.57079632679 0 3.14159265359" xyz="0 0 0"/>
      <geometry>
        <mesh filename="meshes/STL/independent_pitch.stl"/>
      </geometry>
    </visual>
    <collision>
      <origin rpy="1.57079632679 0 3.14159265359" xyz="0 0 0"/>
      <geometry>
        <mesh filename="meshes/STL/independent_pitch.stl"/>
      </geometry>
    </collision>
  </link>
  <link name="right_ankle_pitch_link">
    <inertial>
      <mass value="0.229672"/>
      <origin xyz="-0.005371 0.031878 0"/>
      <inertia ixx="0.065718" ixy="0.0" ixz="0.030798" iyy="0.258093" iyz="0.0" izz="0.258972"/>
    </inertial>
    <visual>
      <origin rpy="0 0 -1.57079632679" xyz="0 0 0"/>
      <geometry>
        <mesh filename="meshes/STL/ankle_pitch_right.stl"/>
      </geometry>
    </visual>
    <collision>
      <origin rpy="0 0 -1.57079632679" xyz="0 0 0"/>
      <geometry>
        <mesh filename="meshes/STL/ankle_pitch_right.stl"/>
      </geometry>
    </collision>
  </link>
  <link name="right_ankle_roll_link">
    <inertial>
      <mass value="0.073825"/>
      <origin xyz="0.038060 -0.017131 0.023457"/>
      <inertia ixx="0.067151" ixy="0.006696" ixz="0.005561" iyy="0.251962" iyz="-0.00548" izz="0.300472"/>
    </inertial>
    <visual>
      <origin rpy="-1.57079632679 -1.57079632679 0" xyz="0 0 0"/>
      <geometry>
        <mesh filename="meshes/STL/ankle_roll_right.stl"/>
      </geometry>
    </visual>
    <collision>
      <origin rpy="-1.57079632679 -1.57079632679 0" xyz="0 0 0"/>
      <geometry>
        <mesh filename="meshes/STL/ankle_roll_right.stl"/>
      </geometry>
    </collision>
  </link>
  <link name="right_foot_link"/>
  <!-- camera joints -->
  <joint name="camera_joint" type="fixed">
    <parent link="head_yaw_link"/>
    <child link="camera_link"/>
    <origin rpy="0 0.785398163397 0" xyz="0.036495 0 0.063504"/>
  </joint>
  <!-- camera link -->
  <link name="camera_link"/>
  <!-- imu joint -->
  <joint name="imu_joint" type="fixed">
    <parent link="body_link"/>
    <child link="imu_link"/>
    <origin rpy="0 0 0" xyz="-0.005 0.01682 0.003"/>
  </joint>
  <!-- imu link -->
  <link name="imu_link"/>
  <transmission name="trans_head_yaw">
    <type>transmission_interface/SimpleTransmission</type>
    <joint name="head_yaw_joint">
      <hardwareInterface>hardware_interface/PositionJointInterface</hardwareInterface>
    </joint>
    <actuator name="motor_head_yaw">
      <hardwareInterface>hardware_interface/PositionJointInterface</hardwareInterface>
      <mechanicalReduction>1</mechanicalReduction>
    </actuator>
  </transmission>
  <transmission name="trans_left_shoulder_pitch">
    <type>transmission_interface/SimpleTransmission</type>
    <joint name="left_shoulder_pitch_joint">
      <hardwareInterface>hardware_interface/PositionJointInterface</hardwareInterface>
    </joint>
    <actuator name="motor_{name}">
      <hardwareInterface>hardware_interface/PositionJointInterface</hardwareInterface>
      <mechanicalReduction>1</mechanicalReduction>
    </actuator>
  </transmission>
  <transmission name="trans_left_shoulder_roll">
    <type>transmission_interface/SimpleTransmission</type>
    <joint name="left_shoulder_roll_joint">
      <hardwareInterface>hardware_interface/PositionJointInterface</hardwareInterface>
    </joint>
    <actuator name="motor_{name}">
      <hardwareInterface>hardware_interface/PositionJointInterface</hardwareInterface>
      <mechanicalReduction>1</mechanicalReduction>
    </actuator>
  </transmission>
  <transmission name="trans_left_elbow_pitch">
    <type>transmission_interface/SimpleTransmission</type>
    <joint name="left_elbow_pitch_joint">
      <hardwareInterface>hardware_interface/PositionJointInterface</hardwareInterface>
    </joint>
    <actuator name="motor_{name}">
      <hardwareInterface>hardware_interface/PositionJointInterface</hardwareInterface>
      <mechanicalReduction>1</mechanicalReduction>
    </actuator>
  </transmission>
  <transmission name="trans_right_shoulder_pitch">
    <type>transmission_interface/SimpleTransmission</type>
    <joint name="right_shoulder_pitch_joint">
      <hardwareInterface>hardware_interface/PositionJointInterface</hardwareInterface>
    </joint>
    <actuator name="motor_{name}">
      <hardwareInterface>hardware_interface/PositionJointInterface</hardwareInterface>
      <mechanicalReduction>1</mechanicalReduction>
    </actuator>
  </transmission>
  <transmission name="trans_right_shoulder_roll">
    <type>transmission_interface/SimpleTransmission</type>
    <joint name="right_shoulder_roll_joint">
      <hardwareInterface>hardware_interface/PositionJointInterface</hardwareInterface>
    </joint>
    <actuator name="motor_{name}">
      <hardwareInterface>hardware_interface/PositionJointInterface</hardwareInterface>
      <mechanicalReduction>1</mechanicalReduction>
    </actuator>
  </transmission>
  <transmission name="trans_right_elbow_pitch">
    <type>transmission_interface/SimpleTransmission</type>
    <joint name="right_elbow_pitch_joint">
      <hardwareInterface>hardware_interface/PositionJointInterface</hardwareInterface>
    </joint>
    <actuator name="motor_{name}">
      <hardwareInterface>hardware_interface/PositionJointInterface</hardwareInterface>
      <mechanicalReduction>1</mechanicalReduction>
    </actuator>
  </transmission>
  <transmission name="trans_left_waist_yaw">
    <type>transmission_interface/SimpleTransmission</type>
    <joint name="left_waist_yaw_joint">
      <hardwareInterface>hardware_interface/PositionJointInterface</hardwareInterface>
    </joint>
    <actuator name="motor_{name}">
      <hardwareInterface>hardware_interface/PositionJointInterface</hardwareInterface>
      <mechanicalReduction>1</mechanicalReduction>
    </actuator>
  </transmission>
  <transmission name="trans_left_waist_roll">
    <type>transmission_interface/SimpleTransmission</type>
    <joint name="left_waist_roll_joint">
      <hardwareInterface>hardware_interface/PositionJointInterface</hardwareInterface>
    </joint>
    <actuator name="motor_{name}">
      <hardwareInterface>hardware_interface/PositionJointInterface</hardwareInterface>
      <mechanicalReduction>1</mechanicalReduction>
    </actuator>
  </transmission>
  <transmission name="trans_left_waist_pitch">
    <type>transmission_interface/SimpleTransmission</type>
    <joint name="left_waist_pitch_joint">
      <hardwareInterface>hardware_interface/PositionJointInterface</hardwareInterface>
    </joint>
    <actuator name="motor_{name}">
      <hardwareInterface>hardware_interface/PositionJointInterface</hardwareInterface>
      <mechanicalReduction>1</mechanicalReduction>
    </actuator>
  </transmission>
  <transmission name="trans_left_knee_pitch">
    <type>transmission_interface/SimpleTransmission</type>
    <joint name="left_knee_pitch_joint">
      <hardwareInterface>hardware_interface/PositionJointInterface</hardwareInterface>
    </joint>
    <actuator name="motor_{name}">
      <hardwareInterface>hardware_interface/PositionJointInterface</hardwareInterface>
      <mechanicalReduction>1</mechanicalReduction>
    </actuator>
  </transmission>
  <transmission name="trans_left_ankle_pitch">
    <type>transmission_interface/SimpleTransmission</type>
    <joint name="left_ankle_pitch_joint">
      <hardwareInterface>hardware_interface/PositionJointInterface</hardwareInterface>
    </joint>
    <actuator name="motor_{name}">
      <hardwareInterface>hardware_interface/PositionJointInterface</hardwareInterface>
      <mechanicalReduction>1</mechanicalReduction>
    </actuator>
  </transmission>
  <transmission name="trans_left_ankle_roll">
    <type>transmission_interface/SimpleTransmission</type>
    <joint name="left_ankle_roll_joint">
      <hardwareInterface>hardware_interface/PositionJointInterface</hardwareInterface>
    </joint>
    <actuator name="motor_{name}">
      <hardwareInterface>hardware_interface/PositionJointInterface</hardwareInterface>
      <mechanicalReduction>1</mechanicalReduction>
    </actuator>
  </transmission>
  <transmission name="trans_right_waist_yaw">
    <type>transmission_interface/SimpleTransmission</type>
    <joint name="right_waist_yaw_joint">
      <hardwareInterface>hardware_interface/PositionJointInterface</hardwareInterface>
    </joint>
    <actuator name="motor_{name}">
      <hardwareInterface>hardware_interface/PositionJointInterface</hardwareInterface>
      <mechanicalReduction>1</mechanicalReduction>
    </actuator>
  </transmission>
  <transmission name="trans_right_waist_roll">
    <type>transmission_interface/SimpleTransmission</type>
    <joint name="right_waist_roll_joint">
      <hardwareInterface>hardware_interface/PositionJointInterface</hardwareInterface>
    </joint>
    <actuator name="motor_{name}">
      <hardwareInterface>hardware_interface/PositionJointInterface</hardwareInterface>
      <mechanicalReduction>1</mechanicalReduction>
    </actuator>
  </transmission>
  <transmission name="trans_right_waist_pitch">
    <type>transmission_interface/SimpleTransmission</type>
    <joint name="right_waist_pitch_joint">
      <hardwareInterface>hardware_interface/PositionJointInterface</hardwareInterface>
    </joint>
    <actuator name="motor_{name}">
      <hardwareInterface>hardware_interface/PositionJointInterface</hardwareInterface>
      <mechanicalReduction>1</mechanicalReduction>
    </actuator>
  </transmission>
  <transmission name="trans_right_knee_pitch">
    <type>transmission_interface/SimpleTransmission</type>
    <joint name="right_knee_pitch_joint">
      <hardwareInterface>hardware_interface/PositionJointInterface</hardwareInterface>
    </joint>
    <actuator name="motor_{name}">
      <hardwareInterface>hardware_interface/PositionJointInterface</hardwareInterface>
      <mechanicalReduction>1</mechanicalReduction>
    </actuator>
  </transmission>
  <transmission name="trans_right_ankle_pitch">
    <type>transmission_interface/SimpleTransmission</type>
    <joint name="right_ankle_pitch_joint">
      <hardwareInterface>hardware_interface/PositionJointInterface</hardwareInterface>
    </joint>
    <actuator name="motor_{name}">
      <hardwareInterface>hardware_interface/PositionJointInterface</hardwareInterface>
      <mechanicalReduction>1</mechanicalReduction>
    </actuator>
  </transmission>
  <transmission name="trans_right_ankle_roll">
    <type>transmission_interface/SimpleTransmission</type>
    <joint name="right_ankle_roll_joint">
      <hardwareInterface>hardware_interface/PositionJointInterface</hardwareInterface>
    </joint>
    <actuator name="motor_{name}">
      <hardwareInterface>hardware_interface/PositionJointInterface</hardwareInterface>
      <mechanicalReduction>1</mechanicalReduction>
    </actuator>
  </transmission>
  <gazebo>
    <plugin filename="libgazebo_ros_control.so" name="gazebo_ros_control">
      <robotNamespace/>
      <legacyModeNS>true</legacyModeNS>
    </plugin>
  </gazebo>
  <gazebo reference="body_link">
    <mu1>1.0</mu1>
    <mu2>1.0</mu2>
    <kp>1000000.0</kp>
    <kd>100.0</kd>
    <gravity>false</gravity>
    <minDepth>0.001</minDepth>
    <maxVel>1.0</maxVel>
  </gazebo>
  <gazebo reference="head_yaw_link">
    <mu1>1.0</mu1>
    <mu2>1.0</mu2>
    <kp>1000000.0</kp>
    <kd>100.0</kd>
    <gravity>false</gravity>
    <minDepth>0.001</minDepth>
    <maxVel>1.0</maxVel>
  </gazebo>
  <gazebo reference="left_shoulder_link">
    <mu1>1.0</mu1>
    <mu2>1.0</mu2>
    <kp>1000000.0</kp>
    <kd>100.0</kd>
    <gravity>false</gravity>
    <minDepth>0.001</minDepth>
    <maxVel>1.0</maxVel>
  </gazebo>
  <gazebo reference="left_upper_arm_link">
    <mu1>1.0</mu1>
    <mu2>1.0</mu2>
    <kp>1000000.0</kp>
    <kd>100.0</kd>
    <gravity>false</gravity>
    <minDepth>0.001</minDepth>
    <maxVel>1.0</maxVel>
  </gazebo>
  <gazebo reference="left_lower_arm_link">
    <mu1>1.0</mu1>
    <mu2>1.0</mu2>
    <kp>1000000.0</kp>
    <kd>100.0</kd>
    <gravity>false</gravity>
    <minDepth>0.001</minDepth>
    <maxVel>1.0</maxVel>
  </gazebo>
  <gazebo reference="right_shoulder_link">
    <mu1>1.0</mu1>
    <mu2>1.0</mu2>
    <kp>1000000.0</kp>
    <kd>100.0</kd>
    <gravity>false</gravity>
    <minDepth>0.001</minDepth>
    <maxVel>1.0</maxVel>
  </gazebo>
  <gazebo reference="right_upper_arm_link">
    <mu1>1.0</mu1>
    <mu2>1.0</mu2>
    <kp>1000000.0</kp>
    <kd>100.0</kd>
    <gravity>false</gravity>
    <minDepth>0.001</minDepth>
    <maxVel>1.0</maxVel>
  </gazebo>
  <gazebo reference="right_lower_arm_link">
    <mu1>1.0</mu1>
    <mu2>1.0</mu2>
    <kp>1000000.0</kp>
    <kd>100.0</kd>
    <gravity>false</gravity>
    <minDepth>0.001</minDepth>
    <maxVel>1.0</maxVel>
  </gazebo>
  <gazebo reference="left_waist_yaw_link">
    <mu1>1.0</mu1>
    <mu2>1.0</mu2>
    <kp>1000000.0</kp>
    <kd>100.0</kd>
    <gravity>false</gravity>
    <minDepth>0.001</minDepth>
    <maxVel>1.0</maxVel>
  </gazebo>
  <gazebo reference="left_waist_roll_link">
    <mu1>1.0</mu1>
    <mu2>1.0</mu2>
    <kp>1000000.0</kp>
    <kd>100.0</kd>
    <gravity>false</gravity>
    <minDepth>0.001</minDepth>
    <maxVel>1.0</maxVel>
  </gazebo>
  <gazebo reference="left_slider_crank_link">
    <mu1>1.0</mu1>
    <mu2>1.0</mu2>
    <kp>1000000.0</kp>
    <kd>100.0</kd>
    <gravity>false</gravity>
    <minDepth>0.001</minDepth>
    <maxVel>1.0</maxVel>
  </gazebo>
  <gazebo reference="left_waist_pitch_link">
    <mu1>1.0</mu1>
    <mu2>1.0</mu2>
    <kp>1000000.0</kp>
    <kd>100.0</kd>
    <gravity>false</gravity>
    <minDepth>0.001</minDepth>
    <maxVel>1.0</maxVel>
  </gazebo>
  <gazebo reference="left_waist_pitch_mimic_link">
    <mu1>1.0</mu1>
    <mu2>1.0</mu2>
    <kp>1000000.0</kp>
    <kd>100.0</kd>
    <gravity>false</gravity>
    <minDepth>0.001</minDepth>
    <maxVel>1.0</maxVel>
  </gazebo>
  <gazebo reference="left_knee_pitch_link">
    <mu1>1.0</mu1>
    <mu2>1.0</mu2>
    <kp>1000000.0</kp>
    <kd>100.0</kd>
    <gravity>false</gravity>
    <minDepth>0.001</minDepth>
    <maxVel>1.0</maxVel>
  </gazebo>
  <gazebo reference="left_shin_pitch_link">
    <mu1>1.0</mu1>
    <mu2>1.0</mu2>
    <kp>1000000.0</kp>
    <kd>100.0</kd>
    <gravity>false</gravity>
    <minDepth>0.001</minDepth>
    <maxVel>1.0</maxVel>
  </gazebo>
  <gazebo reference="left_shin_pitch_mimic_link">
    <mu1>1.0</mu1>
    <mu2>1.0</mu2>
    <kp>1000000.0</kp>
    <kd>100.0</kd>
    <gravity>false</gravity>
    <minDepth>0.001</minDepth>
    <maxVel>1.0</maxVel>
  </gazebo>
  <gazebo reference="left_independent_pitch_link">
    <mu1>1.0</mu1>
    <mu2>1.0</mu2>
    <kp>1000000.0</kp>
    <kd>100.0</kd>
    <gravity>false</gravity>
    <minDepth>0.001</minDepth>
    <maxVel>1.0</maxVel>
  </gazebo>
  <gazebo reference="left_ankle_pitch_link">
    <mu1>1.0</mu1>
    <mu2>1.0</mu2>
    <kp>1000000.0</kp>
    <kd>100.0</kd>
    <gravity>false</gravity>
    <minDepth>0.001</minDepth>
    <maxVel>1.0</maxVel>
  </gazebo>
  <gazebo reference="left_ankle_roll_link">
    <mu1>1.0</mu1>
    <mu2>1.0</mu2>
    <kp>1000000.0</kp>
    <kd>100.0</kd>
    <gravity>false</gravity>
    <minDepth>0.001</minDepth>
    <maxVel>1.0</maxVel>
  </gazebo>
  <gazebo reference="left_foot_link">
    <mu1>1.0</mu1>
    <mu2>1.0</mu2>
    <kp>1000000.0</kp>
    <kd>100.0</kd>
    <gravity>false</gravity>
    <minDepth>0.001</minDepth>
    <maxVel>1.0</maxVel>
  </gazebo>
  <gazebo>
    <plugin filename="libroboticsgroup_gazebo_mimic_joint_plugin.so" name="left_waist_roll_mimic_mimic_joint_plugin">
      <joint>left_waist_roll_joint</joint>
      <mimicJoint>left_waist_roll_mimic_joint</mimicJoint>
      <hasPID/>
      <multiplier>-2</multiplier>
      <offset>0</offset>
      <sensitiveness>0.0</sensitiveness>
      <maxEffort>1000.0</maxEffort>
    </plugin>
  </gazebo>
  <gazebo>
    <plugin filename="libroboticsgroup_gazebo_mimic_joint_plugin.so" name="left_waist_pitch_mimic_mimic_joint_plugin">
      <joint>left_waist_pitch_joint</joint>
      <mimicJoint>left_waist_pitch_mimic_joint</mimicJoint>
      <hasPID/>
      <multiplier>1</multiplier>
      <offset>0</offset>
      <sensitiveness>0.0</sensitiveness>
      <maxEffort>1000.0</maxEffort>
    </plugin>
  </gazebo>
  <gazebo>
    <plugin filename="libroboticsgroup_gazebo_mimic_joint_plugin.so" name="left_knee_pitch_mimic_mimic_joint_plugin">
      <joint>left_waist_pitch_joint</joint>
      <mimicJoint>left_knee_pitch_mimic_joint</mimicJoint>
      <hasPID/>
      <multiplier>-1</multiplier>
      <offset>0</offset>
      <sensitiveness>0.0</sensitiveness>
      <maxEffort>1000.0</maxEffort>
    </plugin>
  </gazebo>
  <gazebo>
    <plugin filename="libroboticsgroup_gazebo_mimic_joint_plugin.so" name="left_shin_pitch_mimic_mimic_joint_plugin">
      <joint>left_knee_pitch_joint</joint>
      <mimicJoint>left_shin_pitch_mimic_joint</mimicJoint>
      <hasPID/>
      <multiplier>1</multiplier>
      <offset>0</offset>
      <sensitiveness>0.0</sensitiveness>
      <maxEffort>1000.0</maxEffort>
    </plugin>
  </gazebo>
  <gazebo>
    <plugin filename="libroboticsgroup_gazebo_mimic_joint_plugin.so" name="left_ankle_pitch_mimic_mimic_joint_plugin">
      <joint>left_knee_pitch_joint</joint>
      <mimicJoint>left_ankle_pitch_mimic_joint</mimicJoint>
      <hasPID/>
      <multiplier>-1</multiplier>
      <offset>0</offset>
      <sensitiveness>0.0</sensitiveness>
      <maxEffort>1000.0</maxEffort>
    </plugin>
  </gazebo>
  <gazebo reference="right_waist_yaw_link">
    <mu1>1.0</mu1>
    <mu2>1.0</mu2>
    <kp>1000000.0</kp>
    <kd>100.0</kd>
    <gravity>false</gravity>
    <minDepth>0.001</minDepth>
    <maxVel>1.0</maxVel>
  </gazebo>
  <gazebo reference="right_waist_roll_link">
    <mu1>1.0</mu1>
    <mu2>1.0</mu2>
    <kp>1000000.0</kp>
    <kd>100.0</kd>
    <gravity>false</gravity>
    <minDepth>0.001</minDepth>
    <maxVel>1.0</maxVel>
  </gazebo>
  <gazebo reference="right_slider_crank_link">
    <mu1>1.0</mu1>
    <mu2>1.0</mu2>
    <kp>1000000.0</kp>
    <kd>100.0</kd>
    <gravity>false</gravity>
    <minDepth>0.001</minDepth>
    <maxVel>1.0</maxVel>
  </gazebo>
  <gazebo reference="right_waist_pitch_link">
    <mu1>1.0</mu1>
    <mu2>1.0</mu2>
    <kp>1000000.0</kp>
    <kd>100.0</kd>
    <gravity>false</gravity>
    <minDepth>0.001</minDepth>
    <maxVel>1.0</maxVel>
  </gazebo>
  <gazebo reference="right_waist_pitch_mimic_link">
    <mu1>1.0</mu1>
    <mu2>1.0</mu2>
    <kp>1000000.0</kp>
    <kd>100.0</kd>
    <gravity>false</gravity>
    <minDepth>0.001</minDepth>
    <maxVel>1.0</maxVel>
  </gazebo>
  <gazebo reference="right_knee_pitch_link">
    <mu1>1.0</mu1>
    <mu2>1.0</mu2>
    <kp>1000000.0</kp>
    <kd>100.0</kd>
    <gravity>false</gravity>
    <minDepth>0.001</minDepth>
    <maxVel>1.0</maxVel>
  </gazebo>
  <gazebo reference="right_shin_pitch_link">
    <mu1>1.0</mu1>
    <mu2>1.0</mu2>
    <kp>1000000.0</kp>
    <kd>100.0</kd>
    <gravity>false</gravity>
    <minDepth>0.001</minDepth>
    <maxVel>1.0</maxVel>
  </gazebo>
  <gazebo reference="right_shin_pitch_mimic_link">
    <mu1>1.0</mu1>
    <mu2>1.0</mu2>
    <kp>1000000.0</kp>
    <kd>100.0</kd>
    <gravity>false</gravity>
    <minDepth>0.001</minDepth>
    <maxVel>1.0</maxVel>
  </gazebo>
  <gazebo reference="right_independent_pitch_link">
    <mu1>1.0</mu1>
    <mu2>1.0</mu2>
    <kp>1000000.0</kp>
    <kd>100.0</kd>
    <gravity>false</gravity>
    <minDepth>0.001</minDepth>
    <maxVel>1.0</maxVel>
  </gazebo>
  <gazebo reference="right_ankle_pitch_link">
    <mu1>1.0</mu1>
    <mu2>1.0</mu2>
    <kp>1000000.0</kp>
    <kd>100.0</kd>
    <gravity>false</gravity>
    <minDepth>0.001</minDepth>
    <maxVel>1.0</maxVel>
  </gazebo>
  <gazebo reference="right_ankle_roll_link">
    <mu1>1.0</mu1>
    <mu2>1.0</mu2>
    <kp>1000000.0</kp>
    <kd>100.0</kd>
    <gravity>false</gravity>
    <minDepth>0.001</minDepth>
    <maxVel>1.0</maxVel>
  </gazebo>
  <gazebo reference="right_foot_link">
    <mu1>1.0</mu1>
    <mu2>1.0</mu2>
    <kp>1000000.0</kp>
    <kd>100.0</kd>
    <gravity>false</gravity>
    <minDepth>0.001</minDepth>
    <maxVel>1.0</maxVel>
  </gazebo>
  <gazebo>
    <plugin filename="libroboticsgroup_gazebo_mimic_joint_plugin.so" name="right_waist_roll_mimic_mimic_joint_plugin">
      <joint>right_waist_roll_joint</joint>
      <mimicJoint>right_waist_roll_mimic_joint</mimicJoint>
      <hasPID/>
      <multiplier>-2</multiplier>
      <offset>0</offset>
      <sensitiveness>0.0</sensitiveness>
      <maxEffort>1000.0</maxEffort>
    </plugin>
  </gazebo>
  <gazebo>
    <plugin filename="libroboticsgroup_gazebo_mimic_joint_plugin.so" name="right_waist_pitch_mimic_mimic_joint_plugin">
      <joint>right_waist_pitch_joint</joint>
      <mimicJoint>right_waist_pitch_mimic_joint</mimicJoint>
      <hasPID/>
      <multiplier>1</multiplier>
      <offset>0</offset>
      <sensitiveness>0.0</sensitiveness>
      <maxEffort>1000.0</maxEffort>
    </plugin>
  </gazebo>
  <gazebo>
    <plugin filename="libroboticsgroup_gazebo_mimic_joint_plugin.so" name="right_knee_pitch_mimic_mimic_joint_plugin">
      <joint>right_waist_pitch_joint</joint>
      <mimicJoint>right_knee_pitch_mimic_joint</mimicJoint>
      <hasPID/>
      <multiplier>-1</multiplier>
      <offset>0</offset>
      <sensitiveness>0.0</sensitiveness>
      <maxEffort>1000.0</maxEffort>
    </plugin>
  </gazebo>
  <gazebo>
    <plugin filename="libroboticsgroup_gazebo_mimic_joint_plugin.so" name="right_shin_pitch_mimic_mimic_joint_plugin">
      <joint>right_knee_pitch_joint</joint>
      <mimicJoint>right_shin_pitch_mimic_joint</mimicJoint>
      <hasPID/>
      <multiplier>1</multiplier>
      <offset>0</offset>
      <sensitiveness>0.0</sensitiveness>
      <maxEffort>1000.0</maxEffort>
    </plugin>
  </gazebo>
  <gazebo>
    <plugin filename="libroboticsgroup_gazebo_mimic_joint_plugin.so" name="right_ankle_pitch_mimic_mimic_joint_plugin">
      <joint>right_knee_pitch_joint</joint>
      <mimicJoint>right_ankle_pitch_mimic_joint</mimicJoint>
      <hasPID/>
      <multiplier>-1</multiplier>
      <offset>0</offset>
      <sensitiveness>0.0</sensitiveness>
      <maxEffort>1000.0</maxEffort>
    </plugin>
  </gazebo>
  <gazebo reference="camera_link">
    <sensor name="camera_sensor" type="camera">
      <update_rate>10.0</update_rate>
      <camera name="camera_sensor">
        <pose>0 0 0 0 0 0</pose>
        <horizontal_fov>1.3962634</horizontal_fov>
        <image>
          <width>640</width>
          <height>480</height>
          <format>R8G8B8</format>
        </image>
        <clip>
          <near>0.02</near>
          <far>300</far>
        </clip>
        <noise>
          <type>gaussian</type>
          <stddev>0.007</stddev>
        </noise>
      </camera>
      <plugin filename="libgazebo_ros_camera.so" name="camera_plugin">
        <alwaysOn>true</alwaysOn>
        <updateRate>0.0</updateRate>
        <cameraName>camera_sensor</cameraName>
        <imageTopicName>image_raw</imageTopicName>
        <cameraInfoTopicName>camera_info</cameraInfoTopicName>
        <frameName>camera_link</frameName>
        <hackBaseLine>0.0</hackBaseLine>
        <distortionK1>0.0</distortionK1>
        <distortionK2>0.0</distortionK2>
        <distortionK3>0.0</distortionK3>
        <distortionT1>0.0</distortionT1>
        <distortionT2>0.0</distortionT2>
      </plugin>
    </sensor>
  </gazebo>
  <gazebo reference="imu_link">
    <gravity>true</gravity>
    <sensor name="imu_sensor" type="imu">
      <always_on>true</always_on>
      <update_rate>100</update_rate>
      <visualize>true</visualize>
      <topic>data</topic>
      <pose>0 0 0 0 0 0</pose>
      <plugin filename="libgazebo_ros_imu_sensor.so" name="imu_plugin">
        <topicName>imu/data</topicName>
        <bodyName>imu_link</bodyName>
        <updateRateHZ>10.0</updateRateHZ>
        <gaussianNoise>0.0</gaussianNoise>
        <xyzOffset>0 0 0</xyzOffset>
        <rpyOffset>0 0 0</rpyOffset>
        <frameName>imu_link</frameName>
      </plugin>
    </sensor>
  </gazebo>
</robot>
